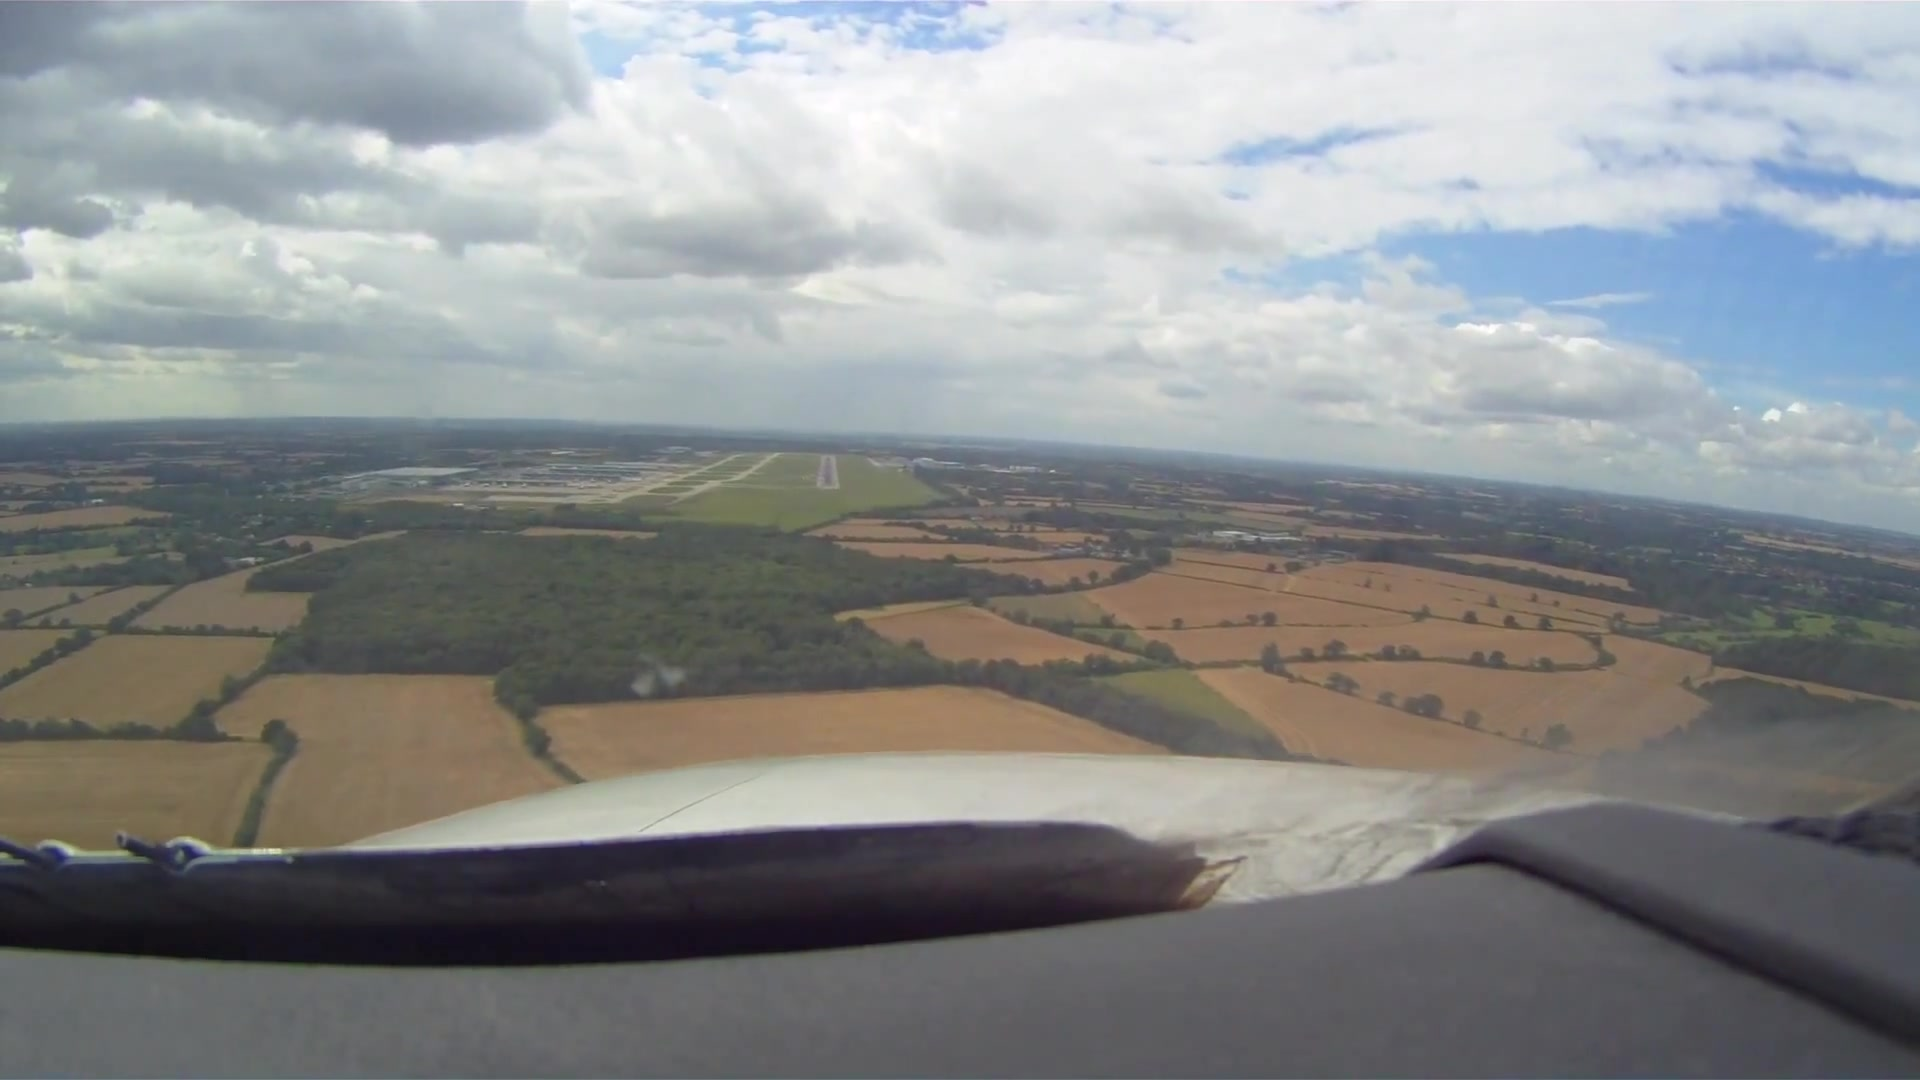runway: (814, 455, 840, 491)
